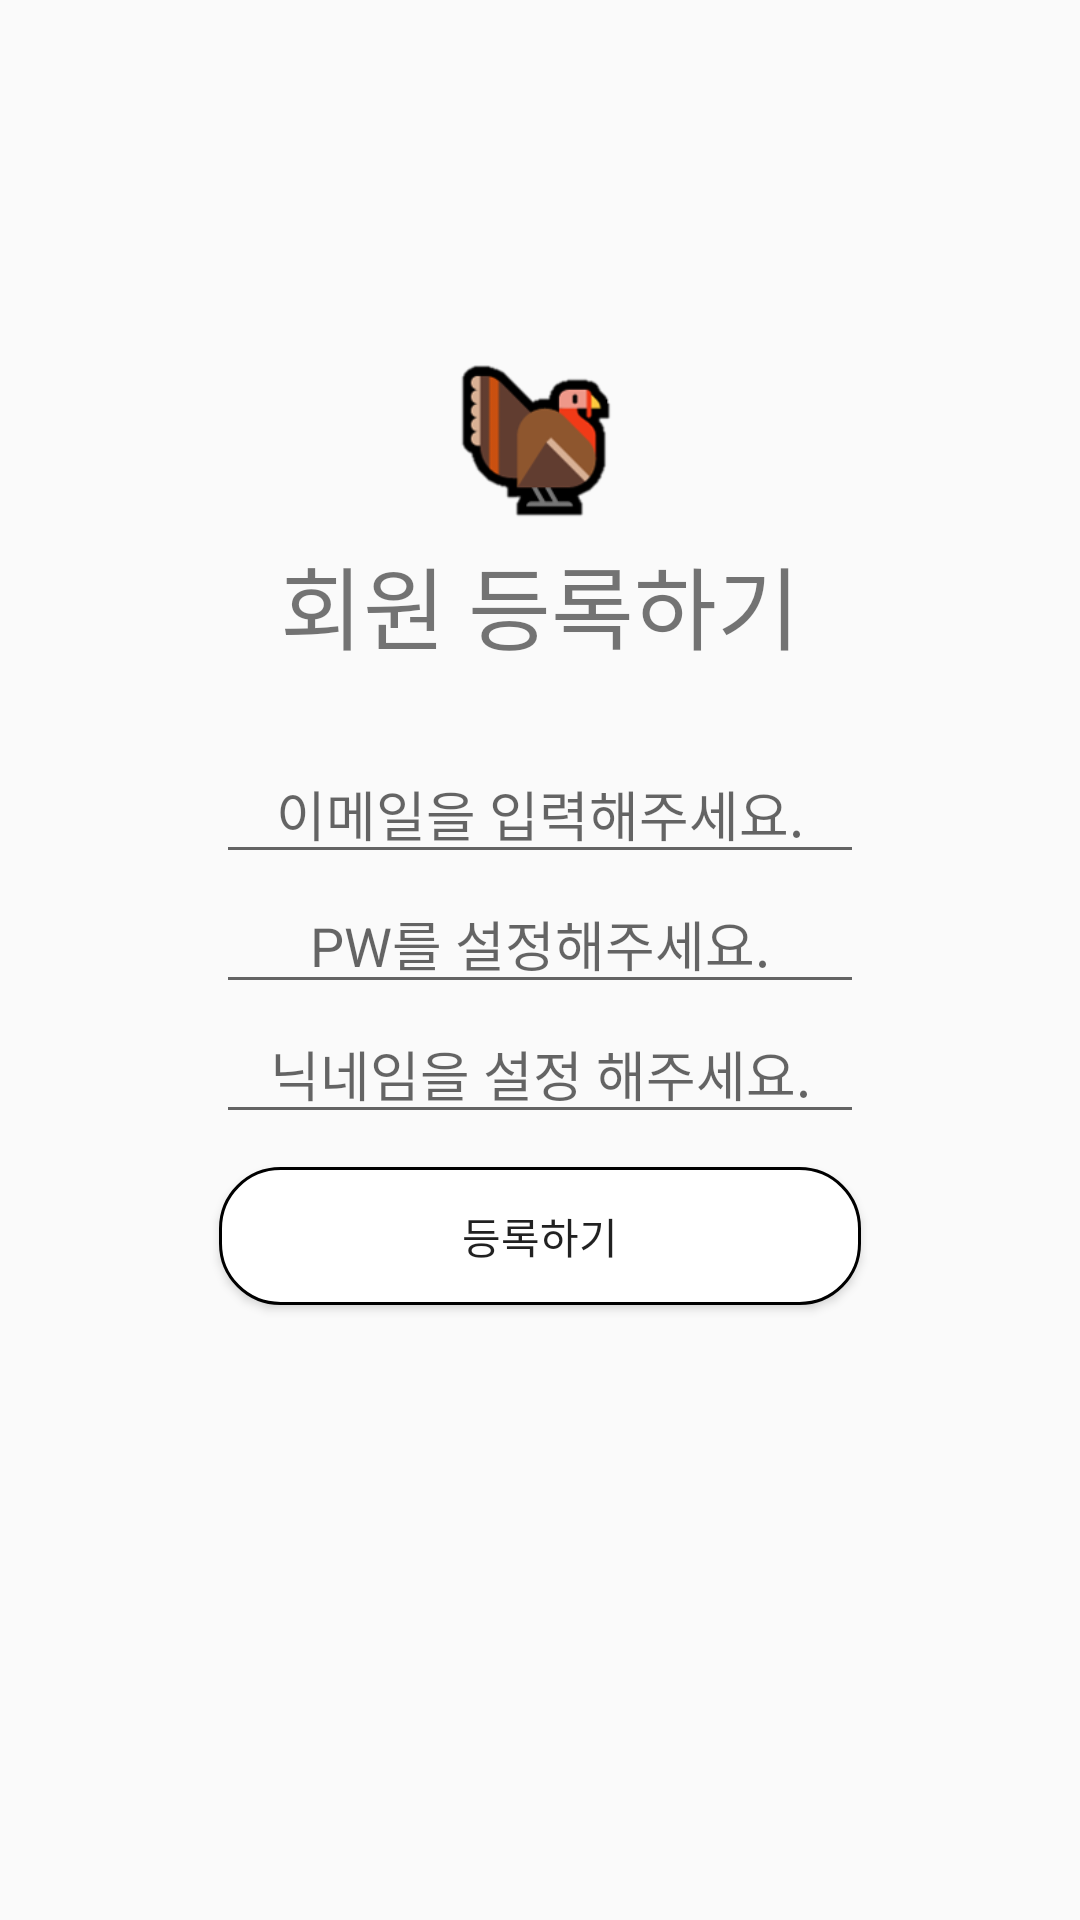

Icon bounding boxes for this 1080 x 1920 phone screenshot, format (x1, y1, x2, y2):
turkey: (461, 365, 610, 516)
